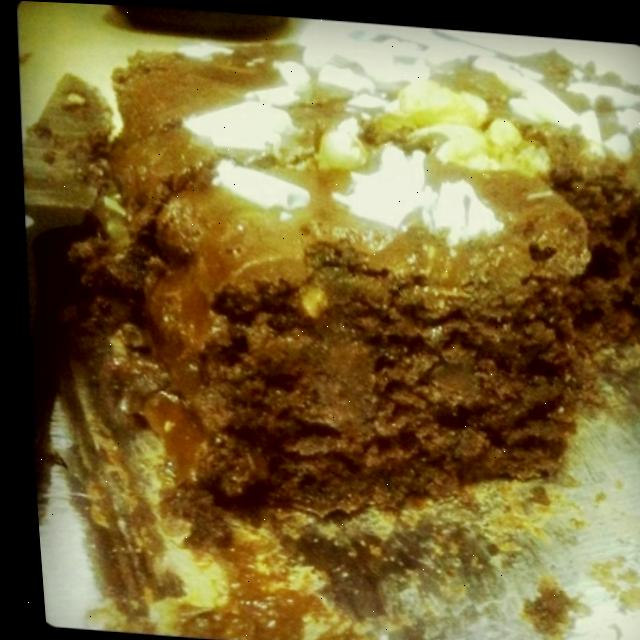蛋糕甜品: (27, 6, 640, 627)
